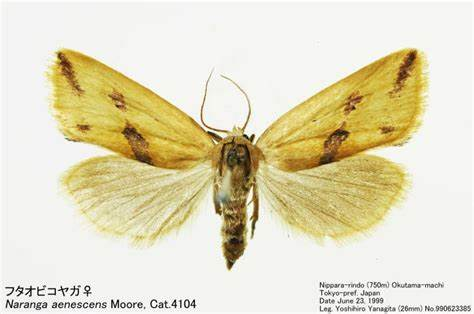Noctuidae: (48, 44, 428, 270)
